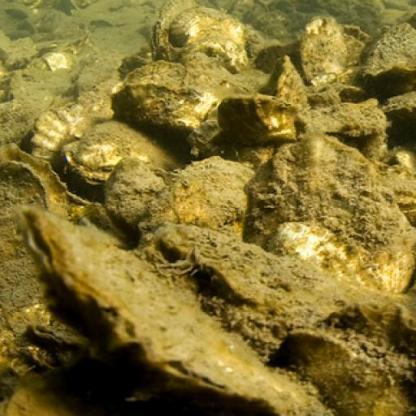Oyster-Closed: (16, 206, 297, 410), (142, 224, 416, 348), (274, 310, 416, 416), (62, 120, 178, 185), (115, 59, 204, 125), (217, 94, 299, 147), (264, 55, 313, 136), (151, 0, 193, 62)
Oyster-Open: (248, 133, 416, 292), (0, 164, 51, 338), (165, 159, 256, 226), (173, 8, 247, 72), (35, 105, 108, 163), (109, 158, 167, 231), (304, 18, 349, 83), (367, 24, 416, 79), (311, 105, 385, 136)
